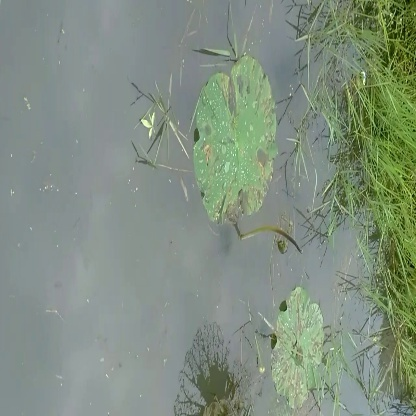leaf: (194, 55, 279, 222), (261, 282, 333, 415)
